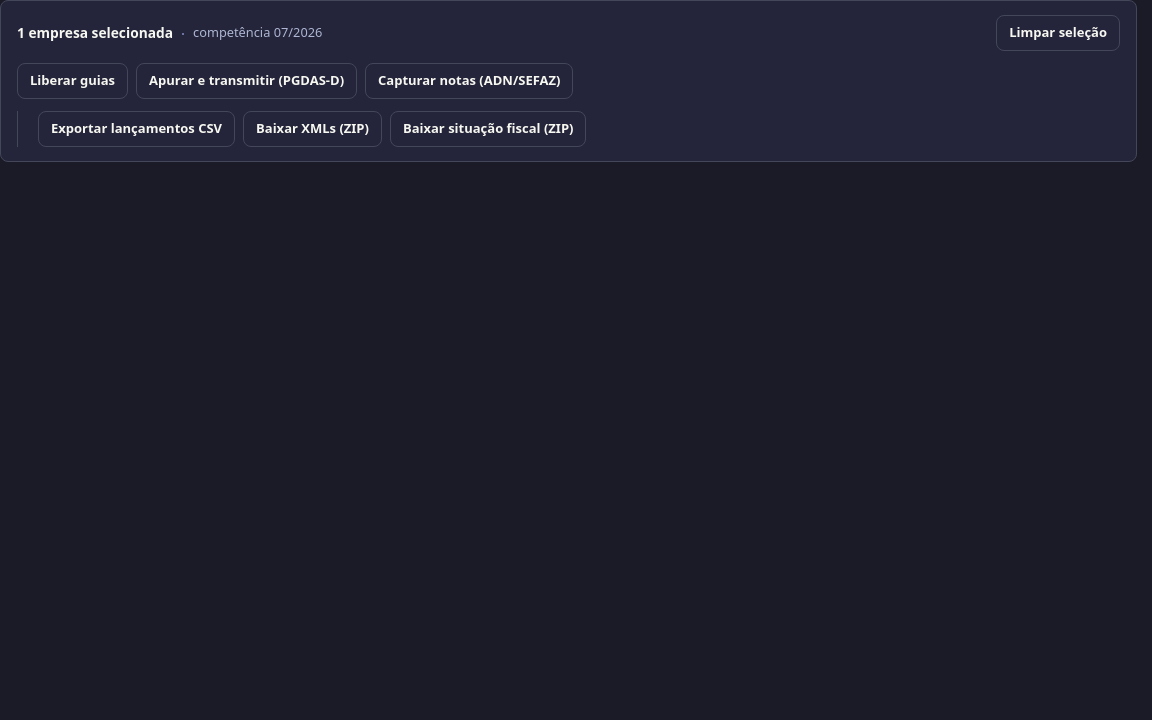
Scenario: ⚠ PRÉVIA ANTES, CONFIRMAÇÃO DEPOIS — nada sai no clique do botão › ⚠ prévia que resolve para ZERO não pergunta 'enviar 0 guias de 0 empresas?'
Click the button "Liberar guias" at (72, 81), box 17,63 -> 128,99
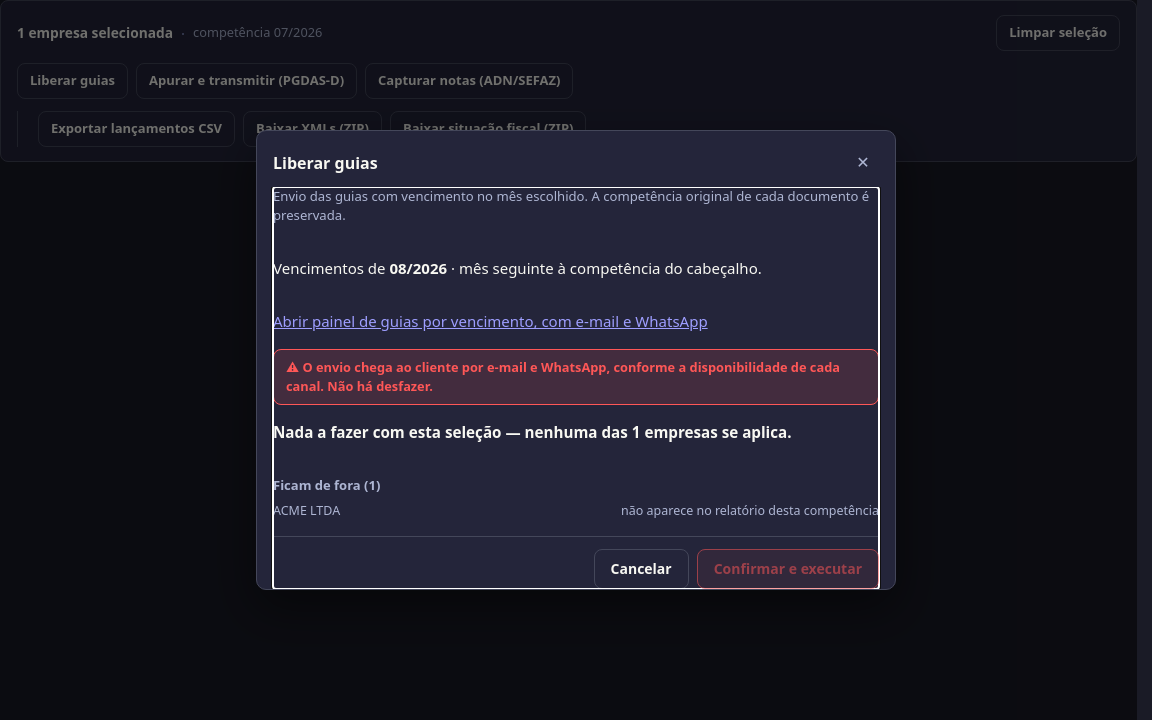
Result: the text "Nada a fazer com esta seleção" is shown at 273,422 -> 632,442
Result: the button "Confirmar e executar" is disabled at 697,549 -> 879,589
